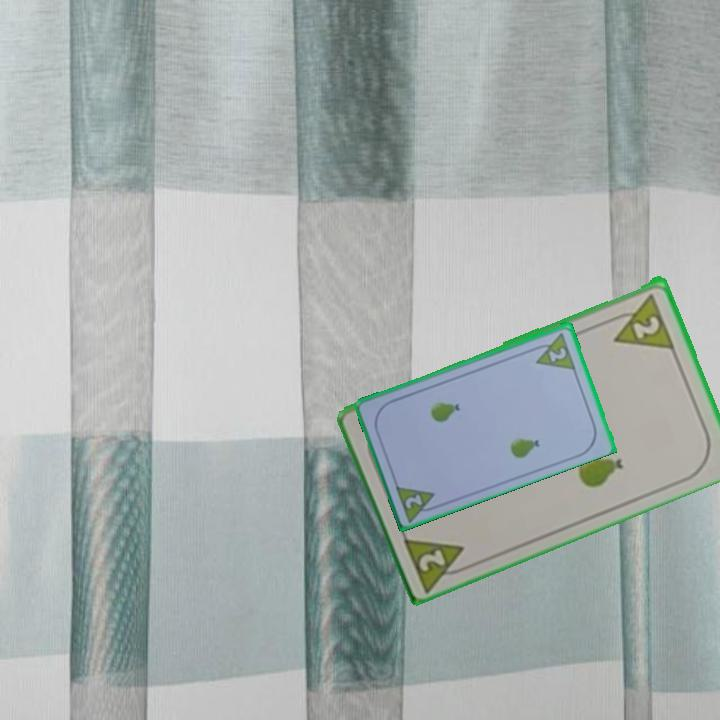2p: (399, 530, 476, 592), (603, 289, 677, 352), (392, 480, 443, 524), (545, 343, 570, 365)
